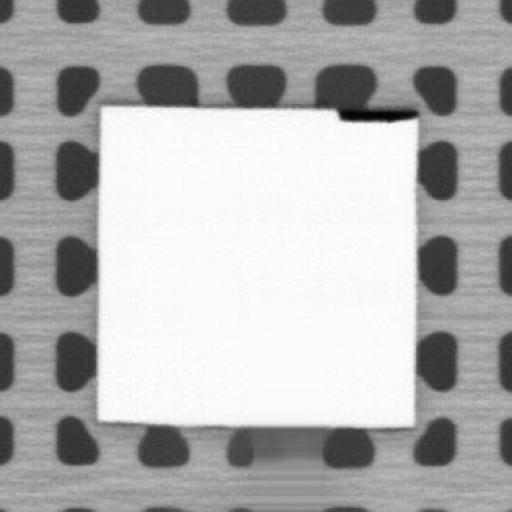DIE_BROKEN: (335, 103, 421, 123)
